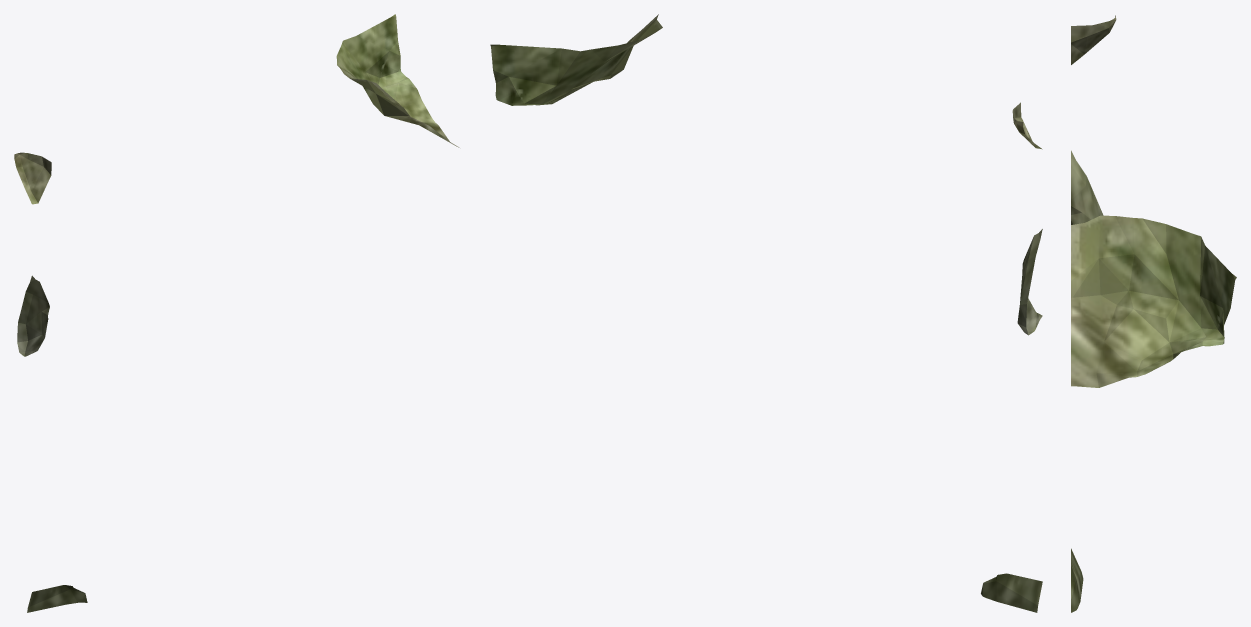
3 renders of one model, left to right at view 1: azimuth 30°, elevation 25°; view 2: azimuth 150°, elevation 25°; view 3: azimuth 270°, elevation 25°, orthographic. The views are drawn at different scales.
Bounding box in the file's own units: 5.9 × 5.9 × 1.57.
1 material, 1 textured.
